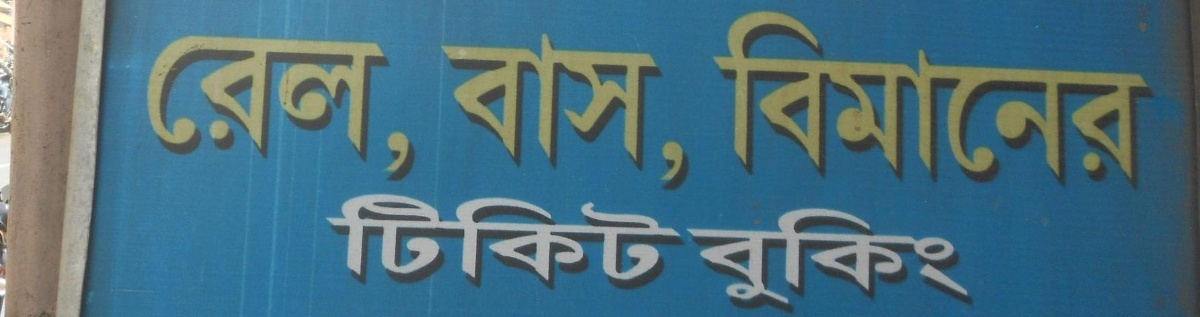text: (721, 6, 736, 190), (737, 6, 752, 190), (753, 6, 768, 190), (769, 6, 784, 190), (785, 6, 800, 190), (801, 6, 816, 190), (817, 6, 832, 190), (833, 6, 848, 190), (849, 6, 864, 190), (865, 6, 880, 190), (881, 6, 896, 190), (897, 6, 912, 190), (913, 6, 928, 190), (929, 6, 944, 190), (945, 6, 960, 190), (961, 6, 976, 190), (977, 6, 992, 190), (993, 6, 1008, 190), (1009, 6, 1024, 190), (1025, 6, 1040, 190), (1041, 6, 1056, 190), (1057, 6, 1072, 190), (1073, 6, 1088, 190), (1089, 6, 1104, 190), (1105, 6, 1120, 190), (1121, 6, 1136, 190), (1137, 6, 1152, 190), (449, 32, 464, 196), (465, 32, 480, 196), (481, 32, 496, 196), (497, 32, 512, 196), (513, 32, 528, 196), (529, 32, 544, 196), (545, 32, 560, 196), (561, 32, 576, 196), (577, 32, 592, 196), (593, 32, 608, 196), (609, 32, 624, 196), (625, 32, 640, 196), (641, 32, 656, 196), (657, 32, 672, 196), (673, 32, 688, 196), (161, 30, 176, 184), (177, 30, 192, 184), (193, 30, 208, 184), (209, 30, 224, 184), (225, 30, 240, 184), (241, 30, 256, 184), (257, 30, 272, 184), (273, 30, 288, 184), (289, 30, 304, 184), (305, 30, 320, 184), (321, 30, 336, 184), (337, 30, 352, 184), (353, 30, 368, 184), (369, 30, 384, 184), (385, 30, 400, 184), (401, 30, 416, 184), (148, 30, 160, 184), (977, 203, 993, 315), (689, 203, 704, 315), (705, 203, 720, 315), (721, 203, 736, 315), (737, 203, 752, 315), (753, 203, 768, 315), (769, 203, 784, 315), (785, 203, 800, 315), (801, 203, 816, 315), (817, 203, 832, 315), (833, 203, 848, 315), (849, 203, 864, 315), (865, 203, 880, 315), (881, 203, 896, 315), (897, 203, 912, 315), (913, 203, 928, 315), (929, 203, 944, 315), (945, 203, 960, 315), (961, 203, 976, 315), (321, 188, 336, 293), (337, 188, 352, 293), (353, 188, 368, 293), (369, 188, 384, 293), (385, 188, 400, 293), (401, 188, 416, 293), (417, 188, 432, 293), (433, 188, 448, 293), (449, 188, 464, 293), (465, 188, 480, 293), (481, 188, 496, 293), (497, 188, 512, 293), (513, 188, 528, 293), (529, 188, 544, 293), (545, 188, 560, 293), (561, 188, 576, 293), (577, 188, 592, 293), (593, 188, 608, 293), (609, 188, 624, 293), (625, 188, 640, 293), (641, 188, 656, 293), (657, 188, 672, 293), (673, 188, 688, 293), (440, 32, 448, 196), (713, 6, 720, 190), (1153, 6, 1157, 190), (689, 32, 693, 196), (417, 30, 419, 184), (686, 203, 688, 315)
